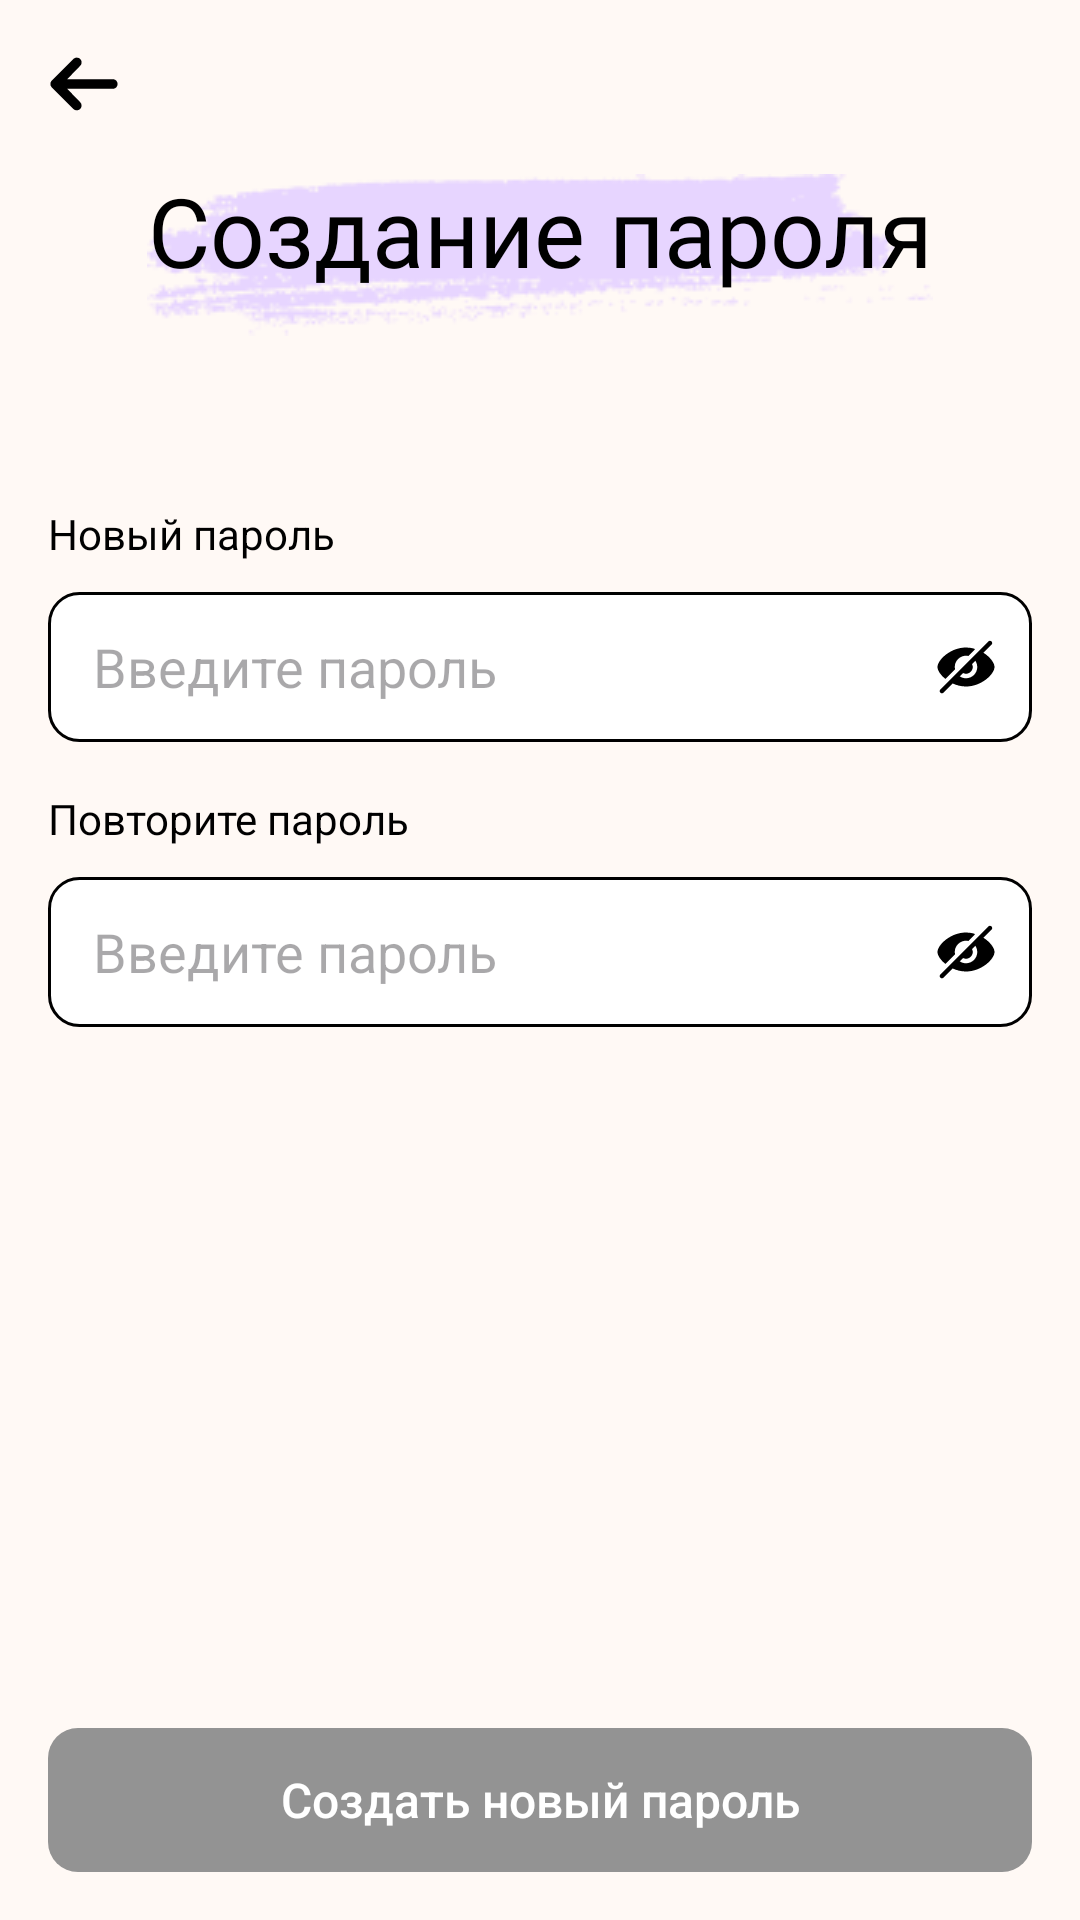

Named icons in this screenshot (1080px×1920px) and their bounding boxes, box(x1, y1, x2, y2):
maki arrow: box(50, 57, 118, 111)
